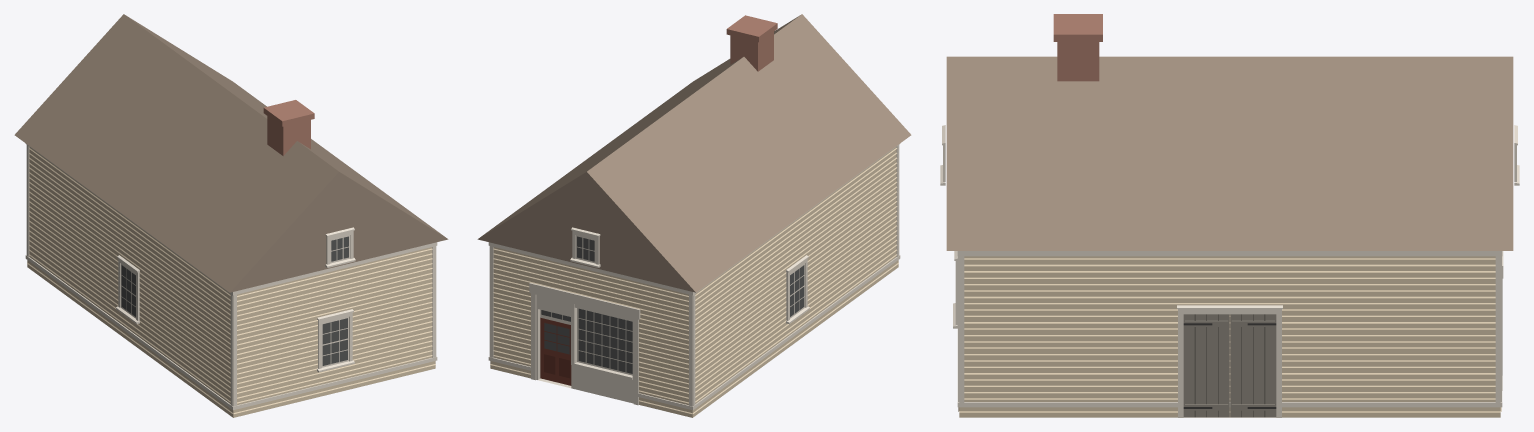
Rendered from recon_1835_core_c2_007__inferred_1835.glb.
The picture shows the model from 3 angles, left to right: view 1: azimuth 30°, elevation 25°; view 2: azimuth 150°, elevation 25°; view 3: azimuth 270°, elevation 25°; orthographic projection. The views are drawn at different scales.
Parts seen in each view (by area): view 1: recon_1835_core_c2_007__inferred_1835; view 2: recon_1835_core_c2_007__inferred_1835; view 3: recon_1835_core_c2_007__inferred_1835.
Part boxes in pixels (x1=…): recon_1835_core_c2_007__inferred_1835: x1=14, y1=14, x2=448, y2=417; recon_1835_core_c2_007__inferred_1835: x1=477, y1=14, x2=911, y2=417; recon_1835_core_c2_007__inferred_1835: x1=940, y1=14, x2=1519, y2=417.
Bounding box in the file's own units: 6.62 × 7.22 × 11.55.
